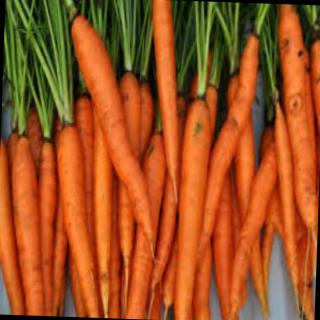Wortel: (62, 14, 165, 251), (53, 124, 105, 318), (267, 99, 310, 318), (4, 135, 54, 317), (174, 96, 214, 320)
